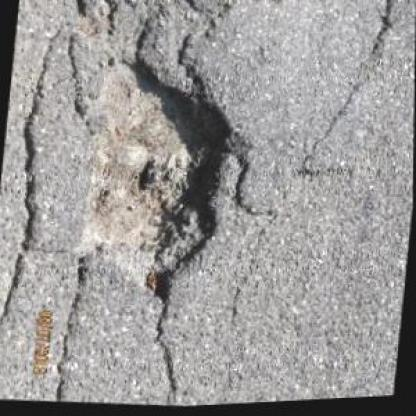pothole: (69, 48, 247, 314)
